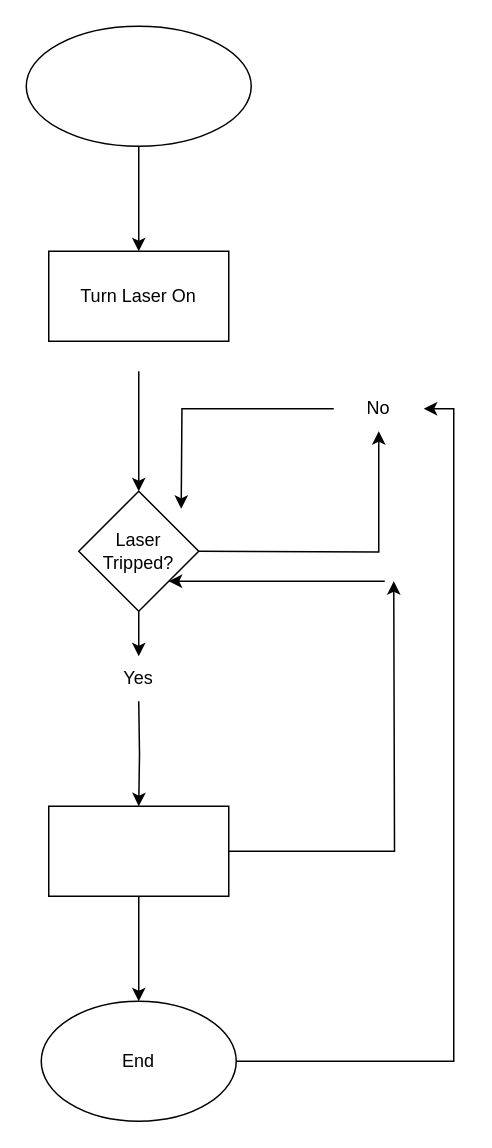
This 492x1148 diagram has some shape labels left out. Here are the shapes that lost their labels. From the top down, the box of each, then its label:
(25, 25, 251, 146): Start
(47, 805, 229, 896): Add 1 To Court
